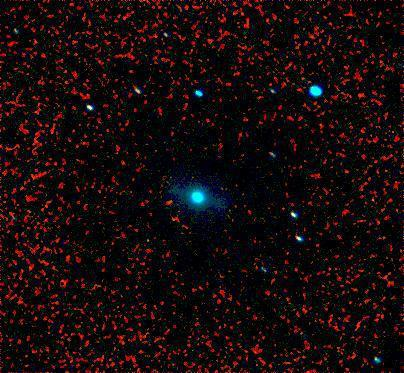star: (154, 187, 184, 217)
